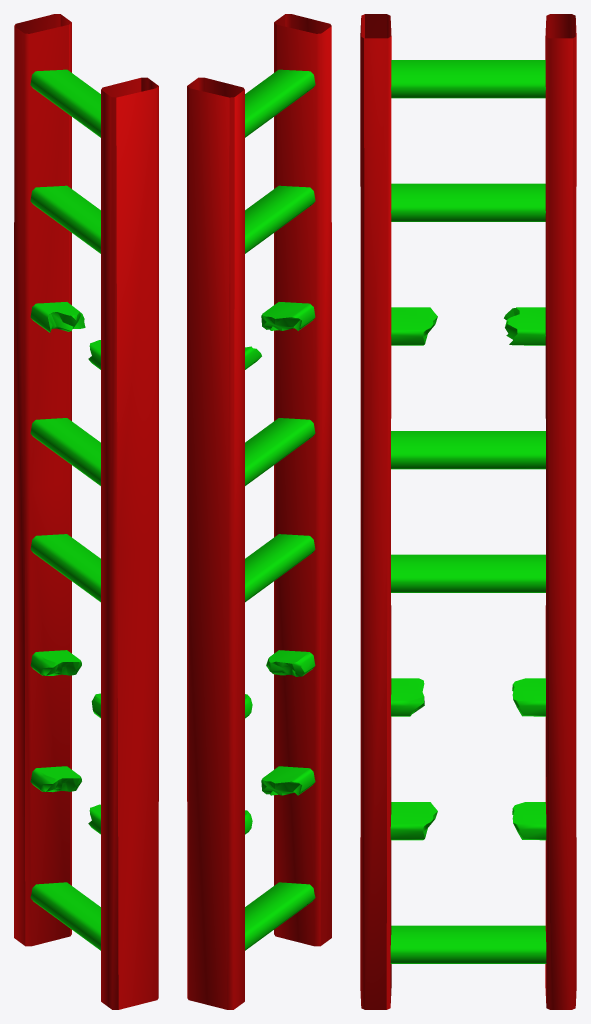
The model's file is SM_Ladder_Broken_Mid.fbx.
The picture shows the model from 3 angles, left to right: view 1: azimuth 30°, elevation 25°; view 2: azimuth 150°, elevation 25°; view 3: azimuth 270°, elevation 25°; orthographic projection. The views are drawn at different scales.
Parts seen in each view (by area): view 1: matchsize4; view 2: matchsize4; view 3: matchsize4.
Boxes of the visible parts, x1=… form: matchsize4: x1=14, y1=14, x2=158, y2=1009; matchsize4: x1=187, y1=14, x2=331, y2=1009; matchsize4: x1=360, y1=14, x2=576, y2=1009.
Bounding box in the file's own units: 14.98 × 275 × 55.5.
